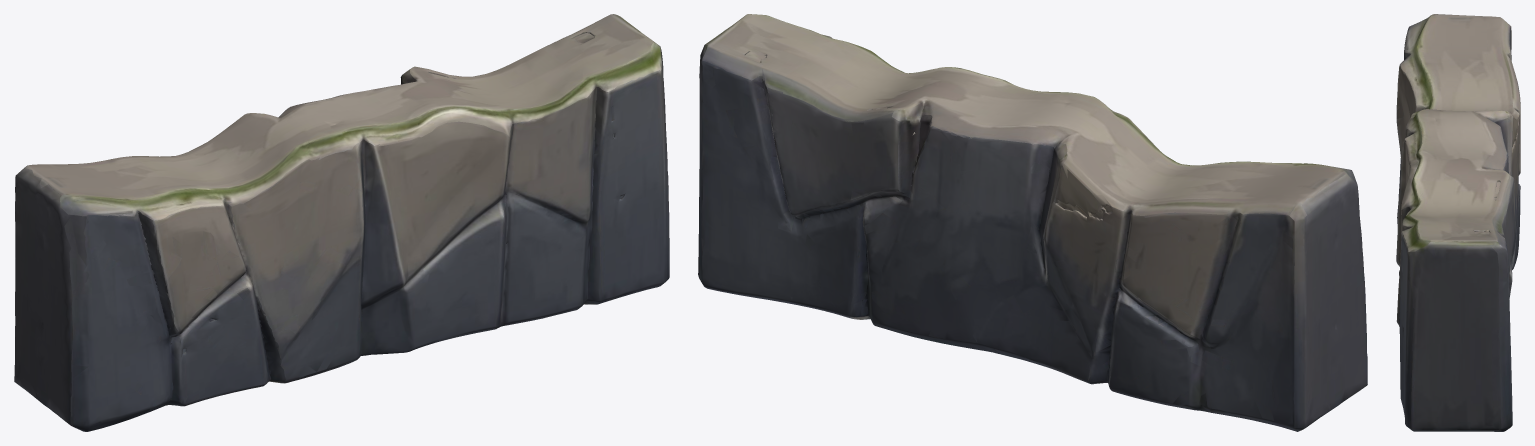
Rendered from hill_ridge.glb.
3 renders of one model, left to right at view 1: azimuth 30°, elevation 25°; view 2: azimuth 150°, elevation 25°; view 3: azimuth 270°, elevation 25°, orthographic. The views are drawn at different scales.
Parts seen in each view (by area): view 1: geometry_0; view 2: geometry_0; view 3: geometry_0.
Part boxes in pixels (<box>): geometry_0: <box>14,14,669,431</box>; geometry_0: <box>698,14,1367,431</box>; geometry_0: <box>1396,14,1520,431</box>.
Size of the model in its own units: 1.2 by 0.4487 by 0.2616.
Materials: 1 (1 with a texture image).
